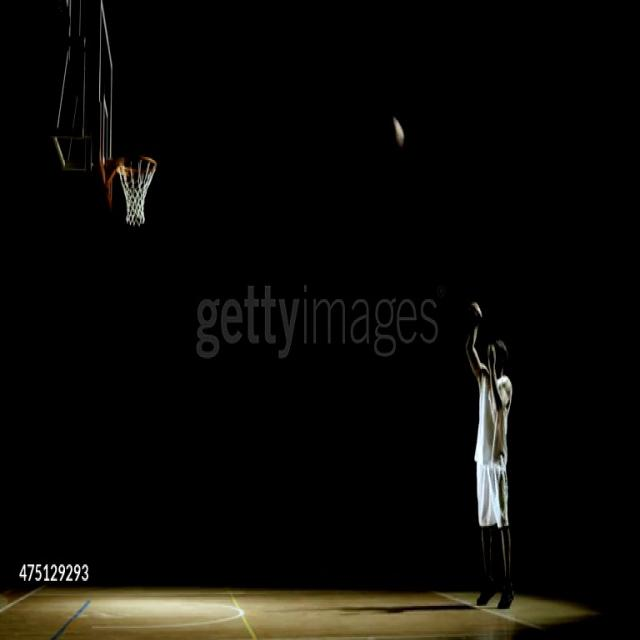ball: (392, 114, 406, 150)
